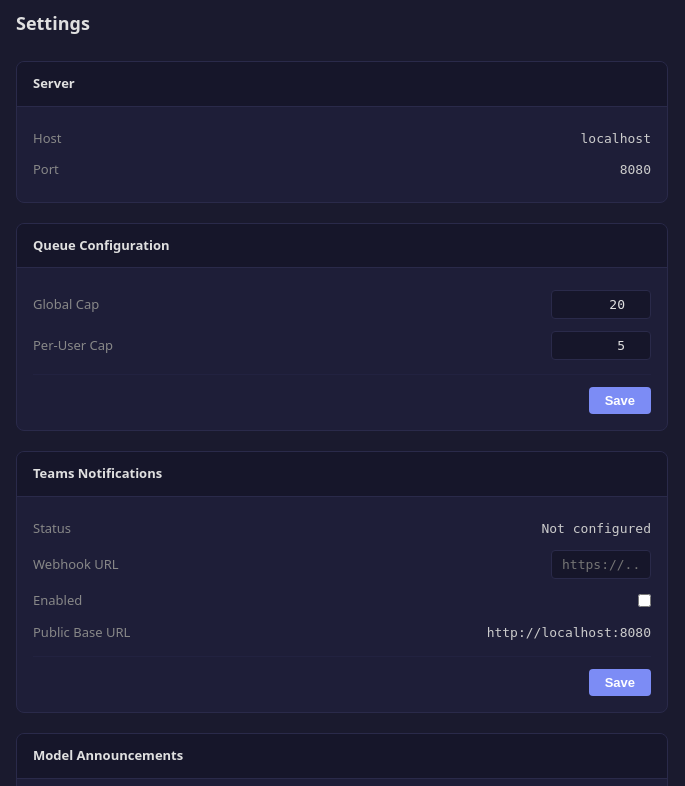
Test case: saves webhookUrl + enabled and shows the success message
Check: the text "Teams Notifications" is shown, box [17,452,667,496]
Step 1. Type "https://new.example.com/hook" into the field → [601, 564], box [551,550,651,579]
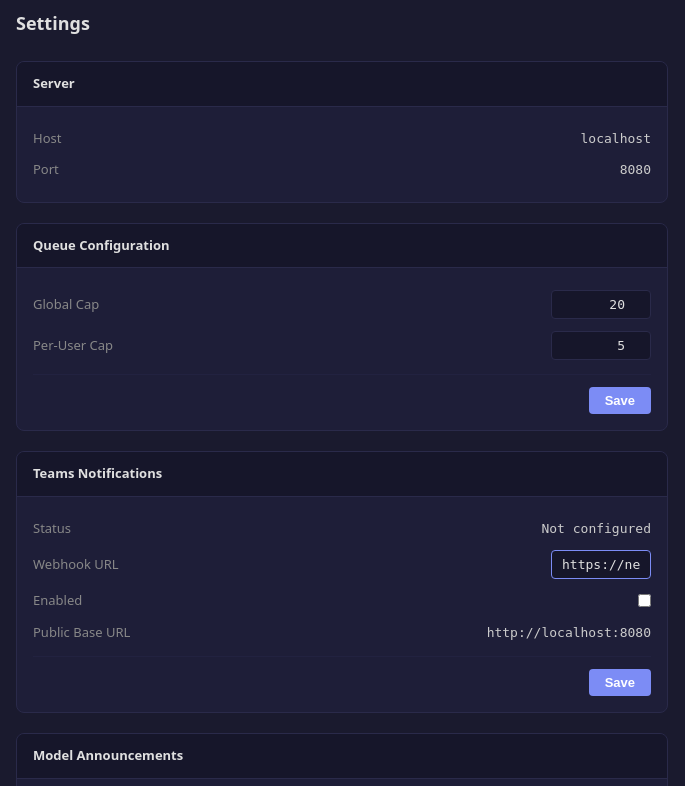
Step 2. Click the checkbox → [644, 601], box [638,594,651,607]
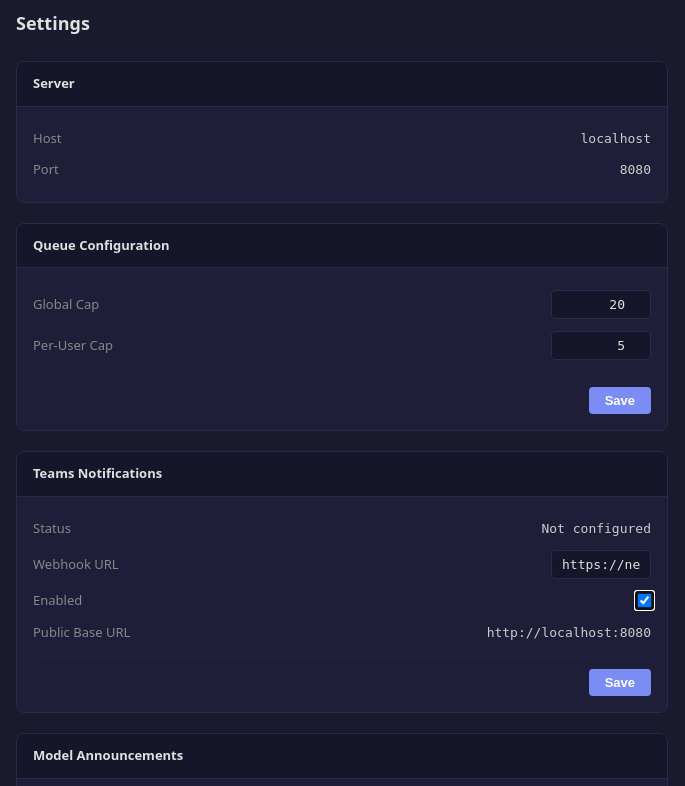
Step 3. Click the button "Save" below "http://localhost:8080" → [620, 682], box [589,669,651,696]
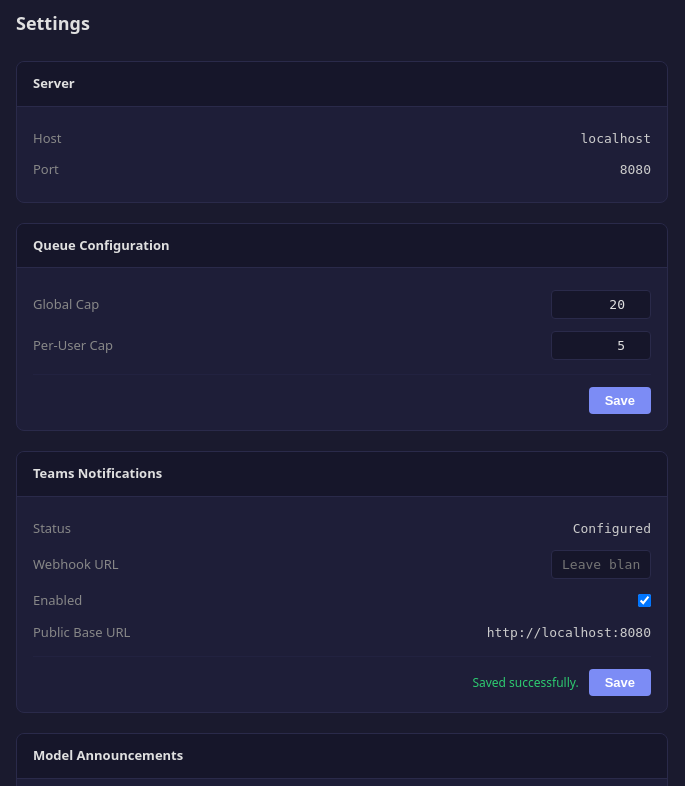
Check: the text "Saved successfully." is shown, box [472,674,579,692]
